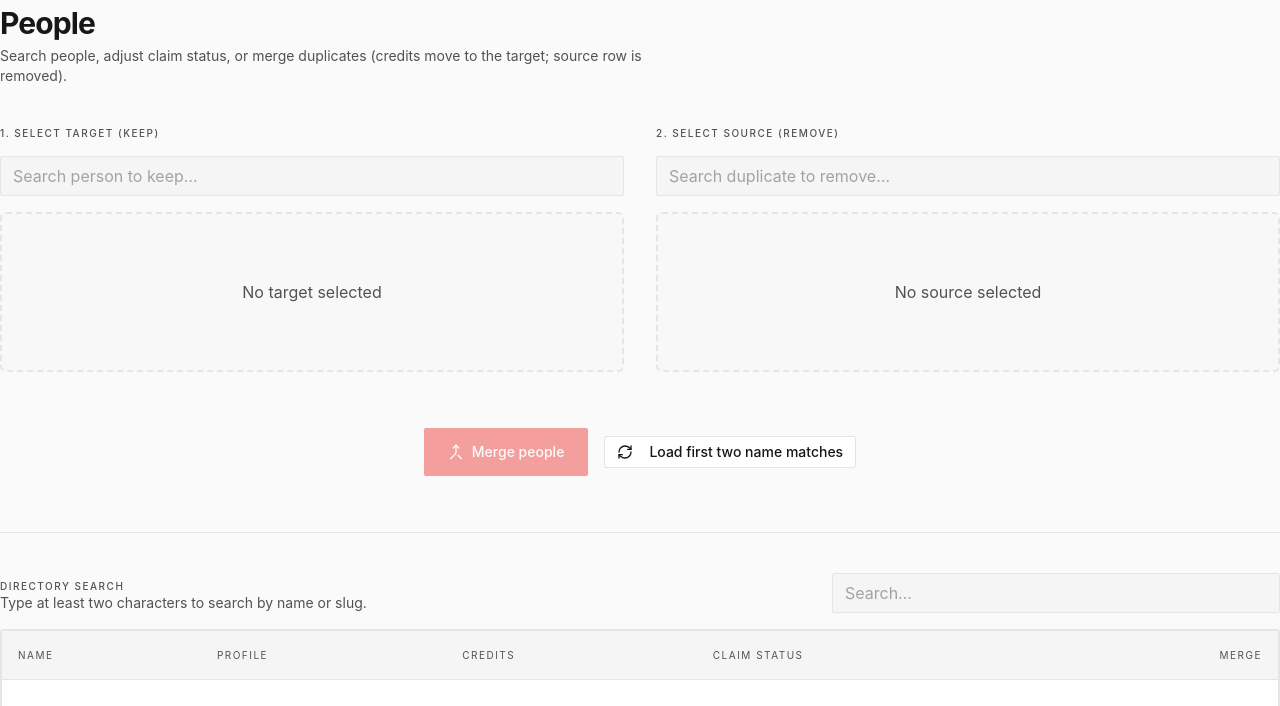
AdminPeople (QA 8.2) › directory search (≥2 chars) lists people from searchAdminPeople
Type "dir" into the field named "Search people directory" at (1056, 593), box [832,573,1279,613]
Wait 450 ms
(page scrolled)
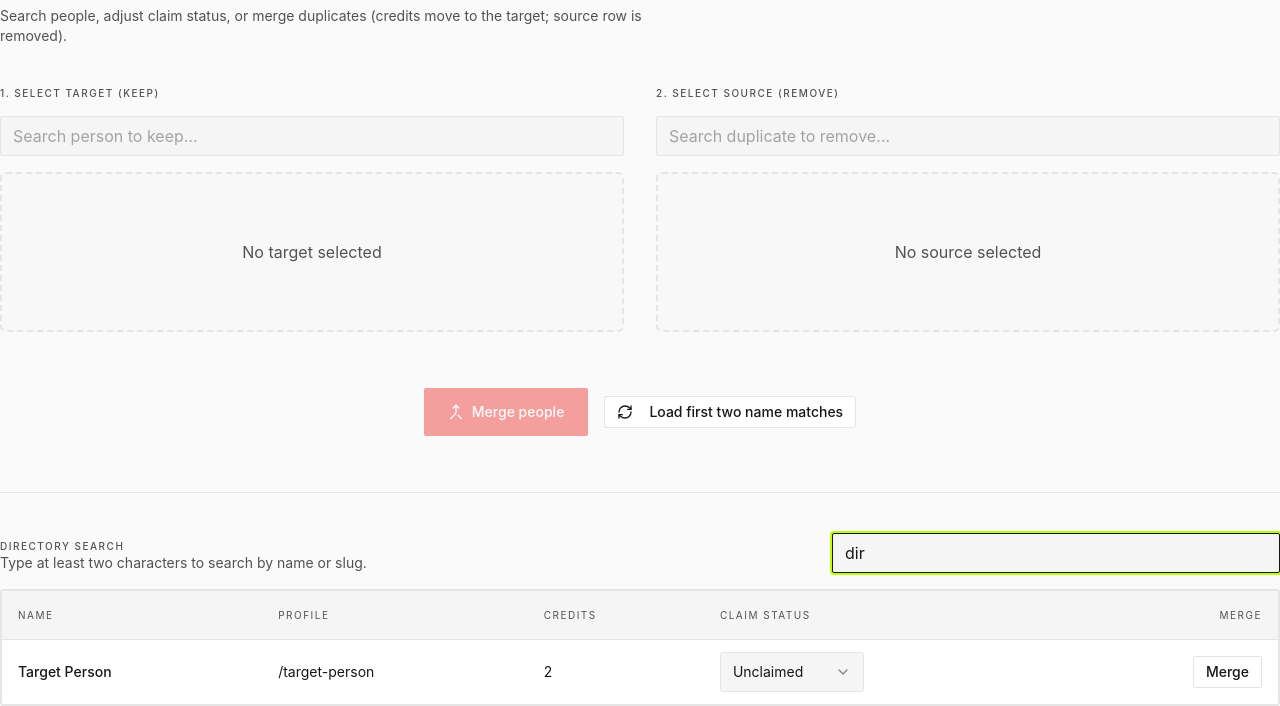
Now the link "/target-person" is shown, box [278,662,374,680]
Now the text "Target Person" is shown, box [2,639,262,704]
